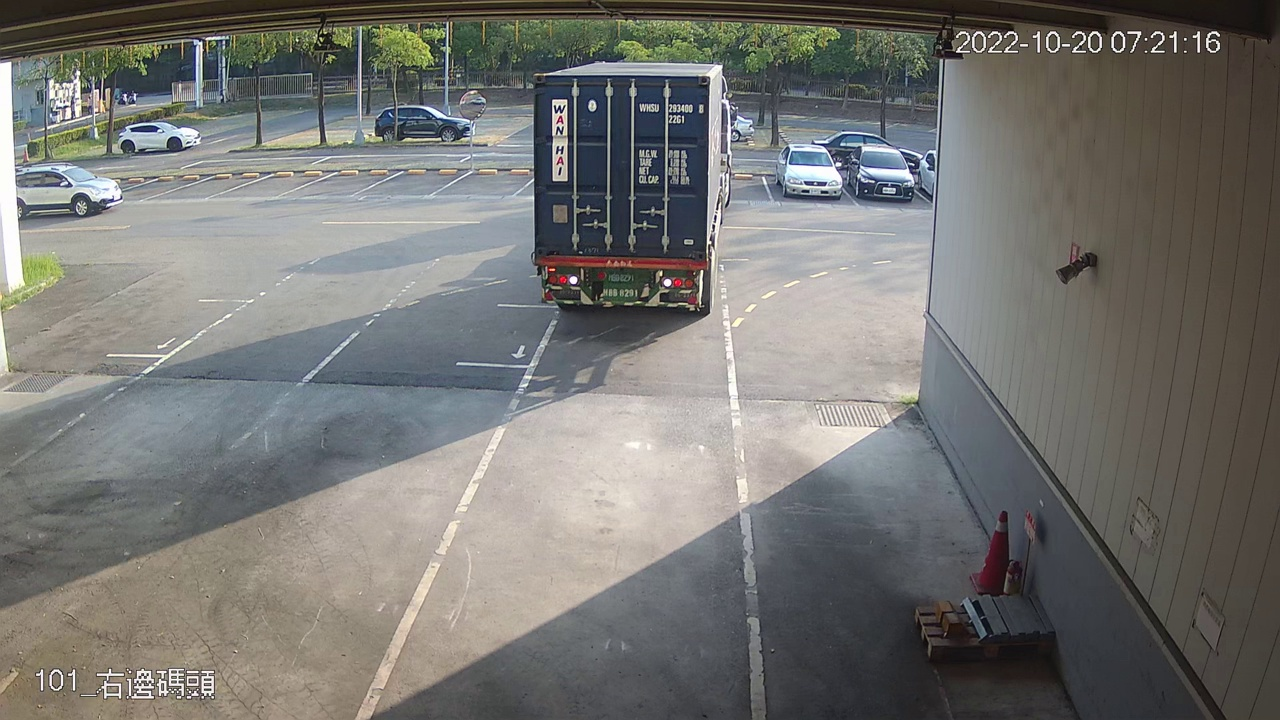container: (635, 97, 707, 129)
